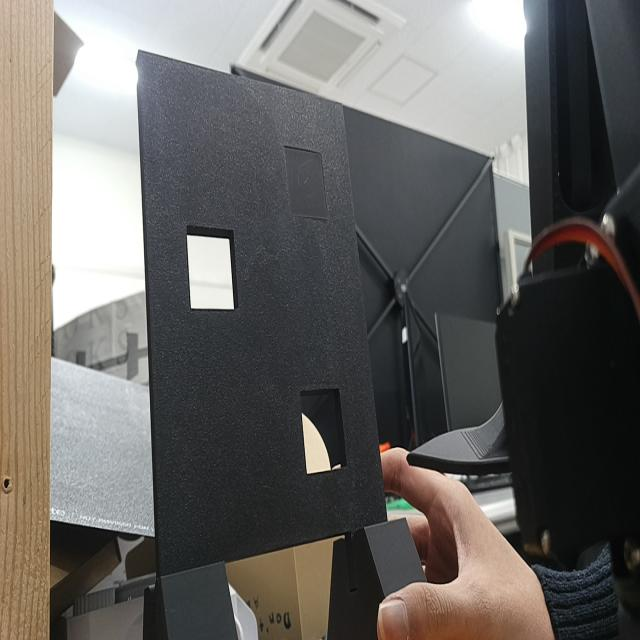Obstacle: (187, 227, 238, 310), (300, 392, 345, 475)
Wall: (136, 52, 384, 576)
